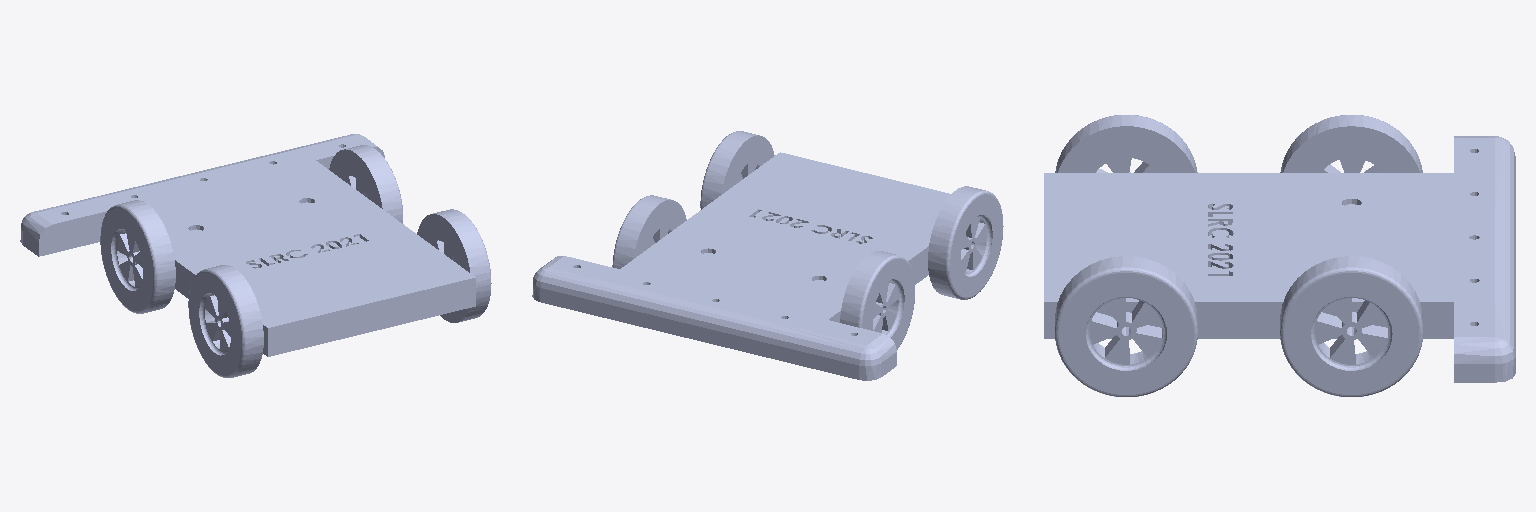
robot.urdf — Assem1:
<?xml version="1.0" encoding="utf-8"?>
<!-- This URDF was automatically created by SolidWorks to URDF Exporter! Originally created by [author] ([email redacted]) 
     Commit Version: 1.6.0-1-g15f4949  Build Version: 1.6.7594.29634
     For more information, please see http://wiki.ros.org/sw_urdf_exporter -->
<robot
  name="Assem1">
  <link
    name="base_link">
    <inertial>
      <origin
        xyz="-4.30659230155686E-06 0.00991258876708149 -0.0221529540717541"
        rpy="0 0 0" />
      <mass
        value="0.734157679226464" />
      <inertia
        ixx="0.00351396795462361"
        ixy="2.71327909754854E-08"
        ixz="1.10768951074218E-07"
        iyy="0.00532306889577312"
        iyz="-4.71400775733587E-06"
        izz="0.00185783513184479" />
    </inertial>
    <visual>
      <origin
        xyz="0 0 0"
        rpy="0 0 0" />
      <geometry>
        <mesh
          filename="package://Assem1/meshes/base_link.STL" />
      </geometry>
      <material
        name="">
        <color
          rgba="0.792156862745098 0.819607843137255 0.933333333333333 1" />
      </material>
    </visual>
    <collision>
      <origin
        xyz="0 0 0"
        rpy="0 0 0" />
      <geometry>
        <mesh
          filename="package://Assem1/meshes/base_link.STL" />
      </geometry>
    </collision>
  </link>
  <link
    name="RF">
    <inertial>
      <origin
        xyz="0 5.20417042793042E-18 0.00717282965435008"
        rpy="0 0 0" />
      <mass
        value="0.0489436503728706" />
      <inertia
        ixx="1.76621848414269E-05"
        ixy="-7.20407711276585E-22"
        ixz="-3.12063948656183E-22"
        iyy="1.76621848414269E-05"
        iyz="1.60513737402595E-22"
        izz="3.36011356425037E-05" />
    </inertial>
    <visual>
      <origin
        xyz="0 0 0"
        rpy="0 0 0" />
      <geometry>
        <mesh
          filename="package://Assem1/meshes/RF.STL" />
      </geometry>
      <material
        name="">
        <color
          rgba="0.792156862745098 0.819607843137255 0.933333333333333 1" />
      </material>
    </visual>
    <collision>
      <origin
        xyz="0 0 0"
        rpy="0 0 0" />
      <geometry>
        <mesh
          filename="package://Assem1/meshes/RF.STL" />
      </geometry>
    </collision>
  </link>
  <joint
    name="RFJ"
    type="continuous">
    <origin
      xyz="0.075 0.05 0.01"
      rpy="-1.5708 0 -1.5708" />
    <parent
      link="base_link" />
    <child
      link="RF" />
    <axis
      xyz="0 0 1" />
  </joint>
  <link
    name="RB">
    <inertial>
      <origin
        xyz="-6.93889390390723E-18 3.46944695195361E-18 0.00717282965435007"
        rpy="0 0 0" />
      <mass
        value="0.0489436503728706" />
      <inertia
        ixx="1.7662184841427E-05"
        ixy="-8.76758942724358E-22"
        ixz="-4.65081024653856E-22"
        iyy="1.7662184841427E-05"
        iyz="9.7625151719536E-23"
        izz="3.36011356425037E-05" />
    </inertial>
    <visual>
      <origin
        xyz="0 0 0"
        rpy="0 0 0" />
      <geometry>
        <mesh
          filename="package://Assem1/meshes/RB.STL" />
      </geometry>
      <material
        name="">
        <color
          rgba="0.792156862745098 0.819607843137255 0.933333333333333 1" />
      </material>
    </visual>
    <collision>
      <origin
        xyz="0 0 0"
        rpy="0 0 0" />
      <geometry>
        <mesh
          filename="package://Assem1/meshes/RB.STL" />
      </geometry>
    </collision>
  </link>
  <joint
    name="RBJ"
    type="continuous">
    <origin
      xyz="0.075 -0.06 0.01"
      rpy="-1.5708 0 -1.5708" />
    <parent
      link="base_link" />
    <child
      link="RB" />
    <axis
      xyz="0 0 1" />
  </joint>
  <link
    name="LF">
    <inertial>
      <origin
        xyz="-6.93889390390723E-18 -6.93889390390723E-18 -0.00717282965435005"
        rpy="0 0 0" />
      <mass
        value="0.0489436503728706" />
      <inertia
        ixx="1.76621848414269E-05"
        ixy="0"
        ixz="4.40049937296268E-22"
        iyy="1.76621848414269E-05"
        iyz="3.14023811486334E-22"
        izz="3.36011356425037E-05" />
    </inertial>
    <visual>
      <origin
        xyz="0 0 0"
        rpy="0 0 0" />
      <geometry>
        <mesh
          filename="package://Assem1/meshes/LF.STL" />
      </geometry>
      <material
        name="">
        <color
          rgba="0.792156862745098 0.819607843137255 0.933333333333333 1" />
      </material>
    </visual>
    <collision>
      <origin
        xyz="0 0 0"
        rpy="0 0 0" />
      <geometry>
        <mesh
          filename="package://Assem1/meshes/LF.STL" />
      </geometry>
    </collision>
  </link>
  <joint
    name="LFJ"
    type="continuous">
    <origin
      xyz="-0.075 0.05 0.01"
      rpy="1.5708 0.91772 1.5708" />
    <parent
      link="base_link" />
    <child
      link="LF" />
    <axis
      xyz="0 0 1" />
  </joint>
  <link
    name="LR">
    <inertial>
      <origin
        xyz="0 -6.93889390390723E-18 -0.00717282965435007"
        rpy="0 0 0" />
      <mass
        value="0.0489436503728706" />
      <inertia
        ixx="1.7662184841427E-05"
        ixy="2.5410988417629E-21"
        ixz="6.92703769507587E-22"
        iyy="1.7662184841427E-05"
        iyz="-2.33376745207237E-23"
        izz="3.36011356425037E-05" />
    </inertial>
    <visual>
      <origin
        xyz="0 0 0"
        rpy="0 0 0" />
      <geometry>
        <mesh
          filename="package://Assem1/meshes/LR.STL" />
      </geometry>
      <material
        name="">
        <color
          rgba="0.792156862745098 0.819607843137255 0.933333333333333 1" />
      </material>
    </visual>
    <collision>
      <origin
        xyz="0 0 0"
        rpy="0 0 0" />
      <geometry>
        <mesh
          filename="package://Assem1/meshes/LR.STL" />
      </geometry>
    </collision>
  </link>
  <joint
    name="LRJ"
    type="continuous">
    <origin
      xyz="-0.075 -0.06 0.01"
      rpy="1.5707963267949 -0.584056750958047 1.5707963267949" />
    <parent
      link="base_link" />
    <child
      link="LR" />
    <axis
      xyz="0 0 1" />
  </joint>
</robot>

--- Facts derived from the render (not from the file) ---
3 views of the same robot in one strip: view 1: azimuth 30°, elevation 25°; view 2: azimuth 150°, elevation 25°; view 3: azimuth 270°, elevation 25° (orthographic).
Robot: Assem1 — 5 links, 4 joints (4 continuous); root link base_link; default pose: every joint at zero.
Visible links, largest first — view 1: RF, RB, base_link, LF; view 2: RF, RB, base_link, LF; view 3: RB, RF, LF, base_link.
Boxes of the visible links, x1=… form: RF: x1=21, y1=144, x2=489, y2=377; RB: x1=34, y1=136, x2=490, y2=353; base_link: x1=82, y1=134, x2=490, y2=377; LF: x1=20, y1=168, x2=491, y2=356; RF: x1=580, y1=135, x2=1003, y2=380; RB: x1=532, y1=134, x2=992, y2=369; base_link: x1=537, y1=131, x2=986, y2=368; LF: x1=535, y1=164, x2=909, y2=379; RB: x1=1044, y1=115, x2=1515, y2=396; RF: x1=1044, y1=115, x2=1515, y2=370; LF: x1=1044, y1=126, x2=1515, y2=396; base_link: x1=1055, y1=146, x2=1513, y2=391.
Size in the robot's own frame: 0.25 by 0.23 by 0.07 metres.
Meshes: 5 distinct files referenced, 4 mesh visuals loaded (4 binary STL); not drawn: 1 (reference not matched to a file when rendering).
